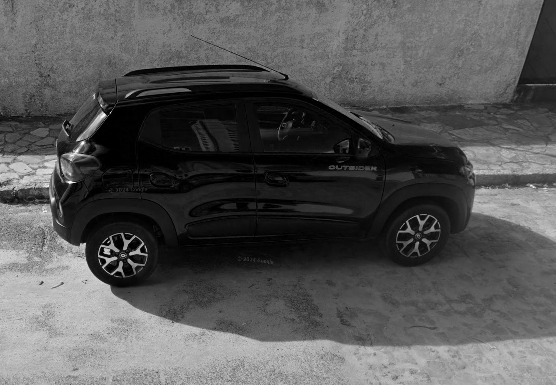car: (43, 31, 481, 290)
